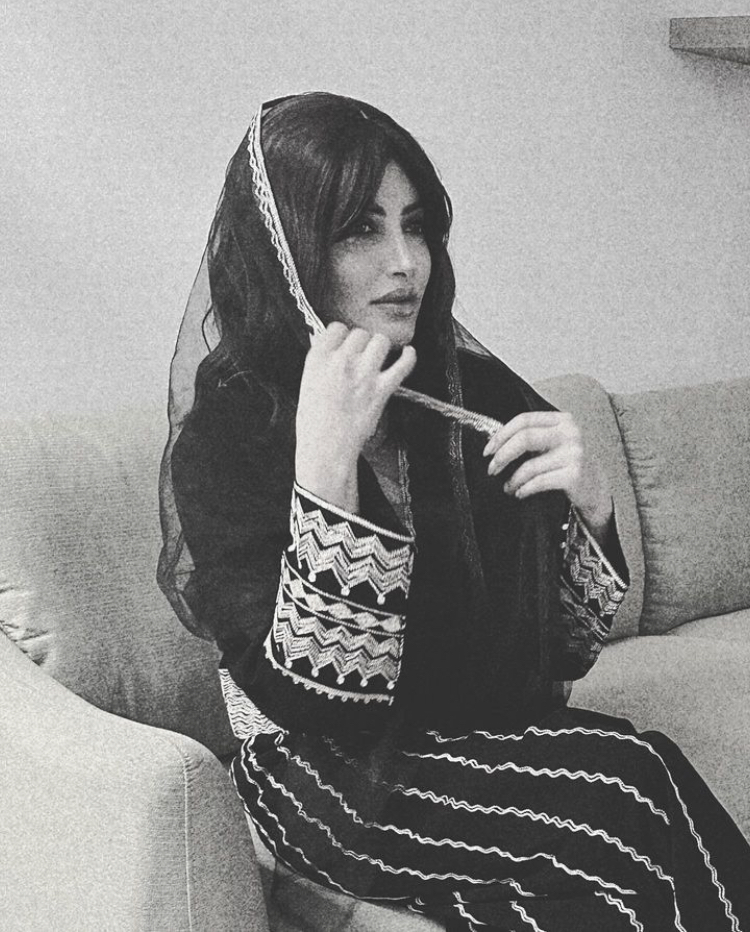Saudi_Founding_Day: (152, 88, 750, 932)
